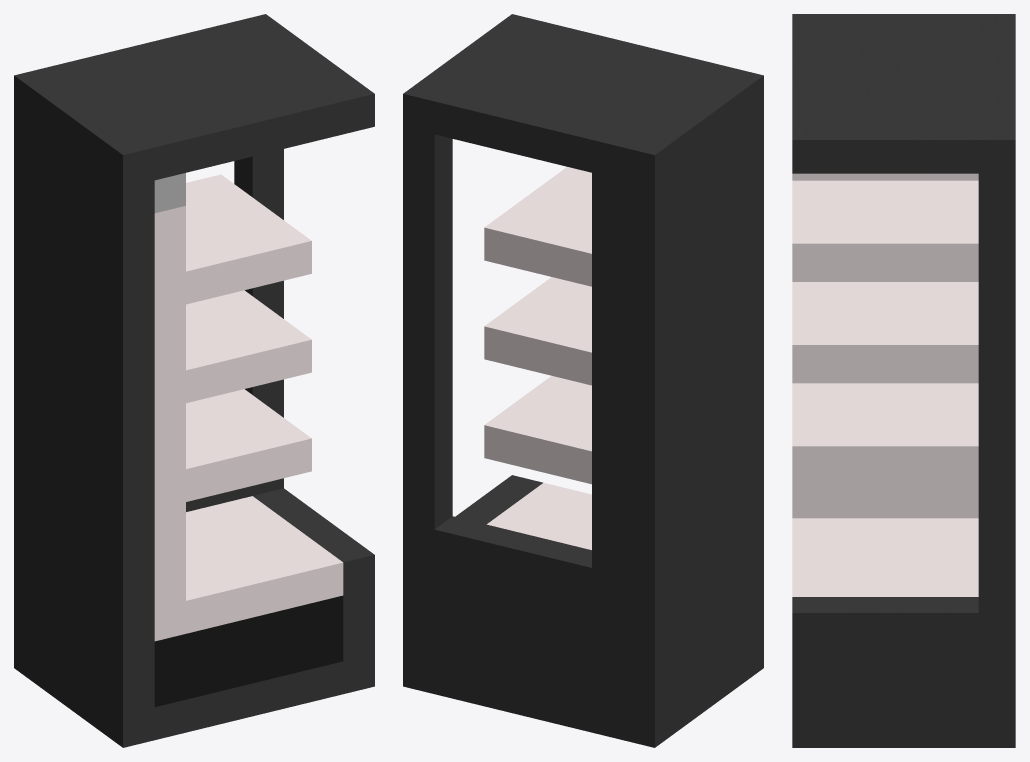
File: large-cooler-right.glb
The picture shows the model from 3 angles, left to right: view 1: azimuth 30°, elevation 25°; view 2: azimuth 150°, elevation 25°; view 3: azimuth 270°, elevation 25°; orthographic projection. The views are drawn at different scales.
Visible parts, largest first — view 1: Untitled; view 2: Untitled; view 3: Untitled.
Part boxes in pixels (box(x1,y1,x2,y2)): Untitled: box(14, 14, 374, 747); Untitled: box(403, 14, 763, 747); Untitled: box(792, 14, 1015, 747).
Bounding box in the file's own units: 0.8 × 1.8 × 0.6.
Materials: 1 (1 with a texture image).
